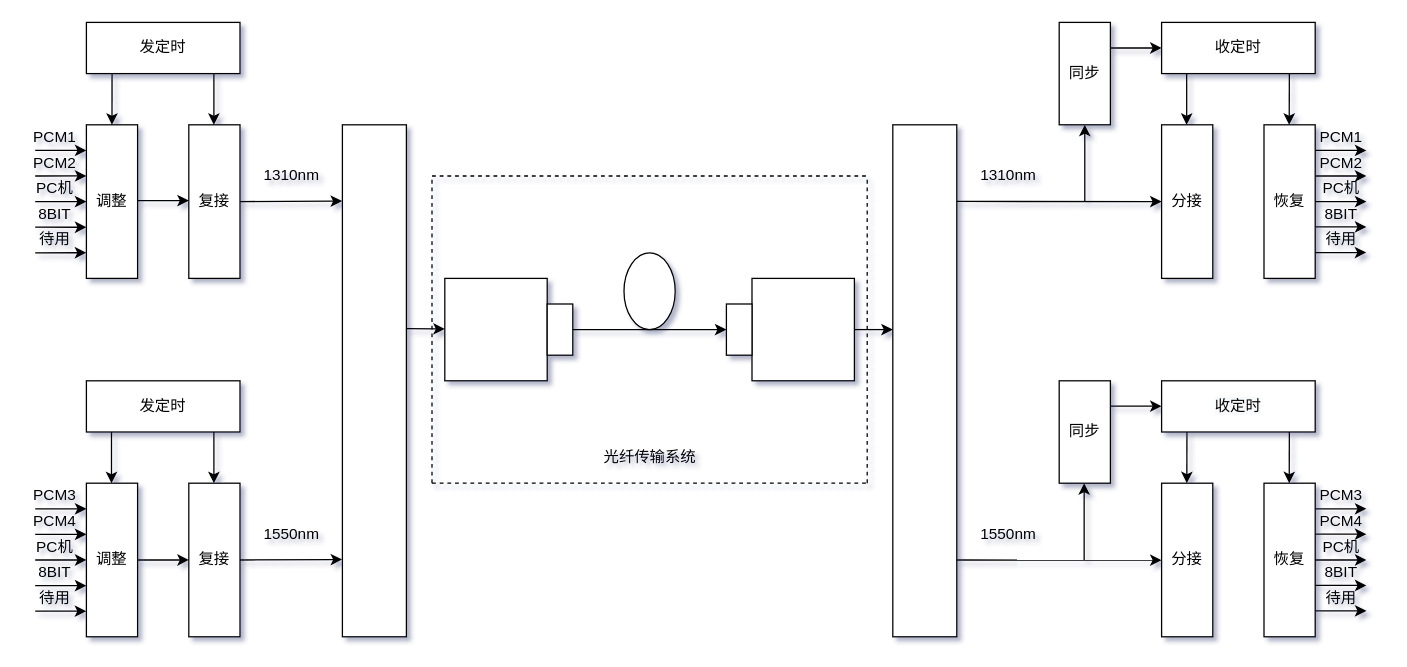
The diagram is 1407 pixels wide and 667 high, and some of its shapes have lost their labels. The shapes that lost their labels are listed below. From the top down, each one's box as (x1, y1, x2, y2) in pixels, then its label:
(341, 124, 406, 637): 波分复用
(892, 124, 957, 637): 波分解复用
